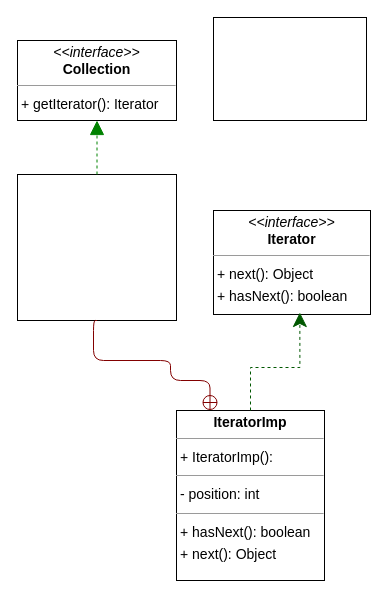
Image size: 388x598. Some labels were removed from this diagram. Each missing label, with the centre of its shape:
"Main + Main(): + main(String[]): void" belongs at [289,68].
"Vacancies + Vacancies(String[]): - vacancies: String[] + getIterator(): Iterator" belongs at [96,247].
